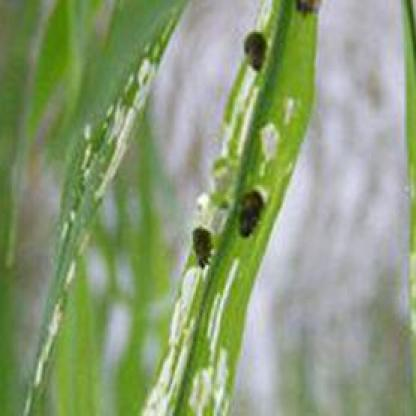rice-bug: (238, 186, 269, 245), (242, 34, 273, 72), (190, 224, 216, 268), (297, 0, 319, 18)
